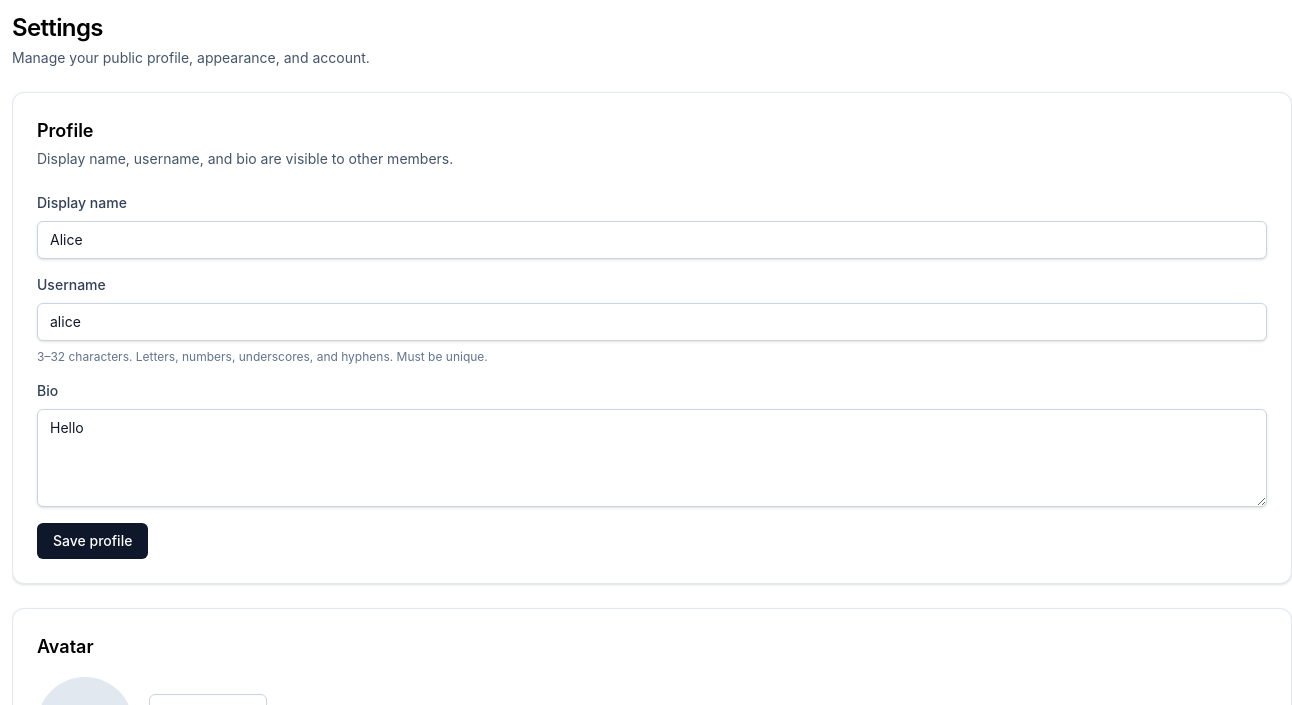
Test case: SettingsPage › saves display name, username, and bio
Replace the text in the field labelled "Display name" with "Alice Updated": (652, 240) [37,221,1267,259]
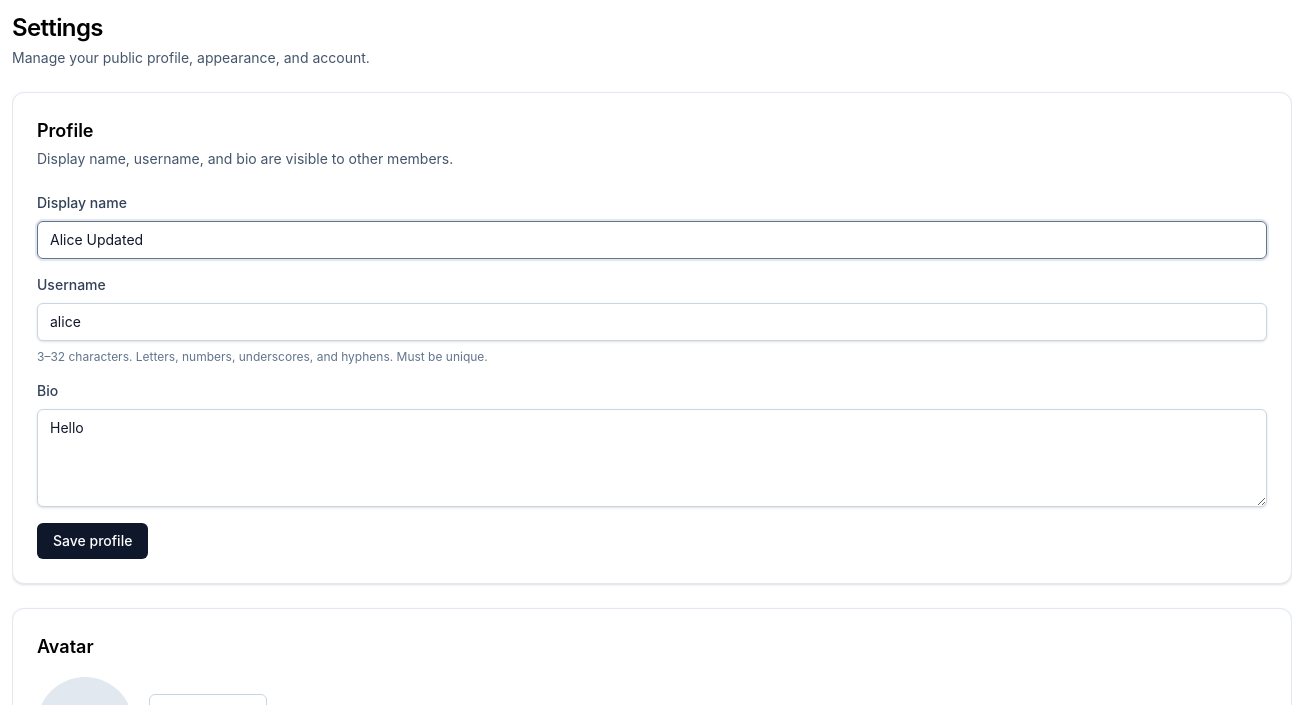
Replace the text in the field labelled "Username" with "alice_new": (652, 322) [37,303,1267,341]
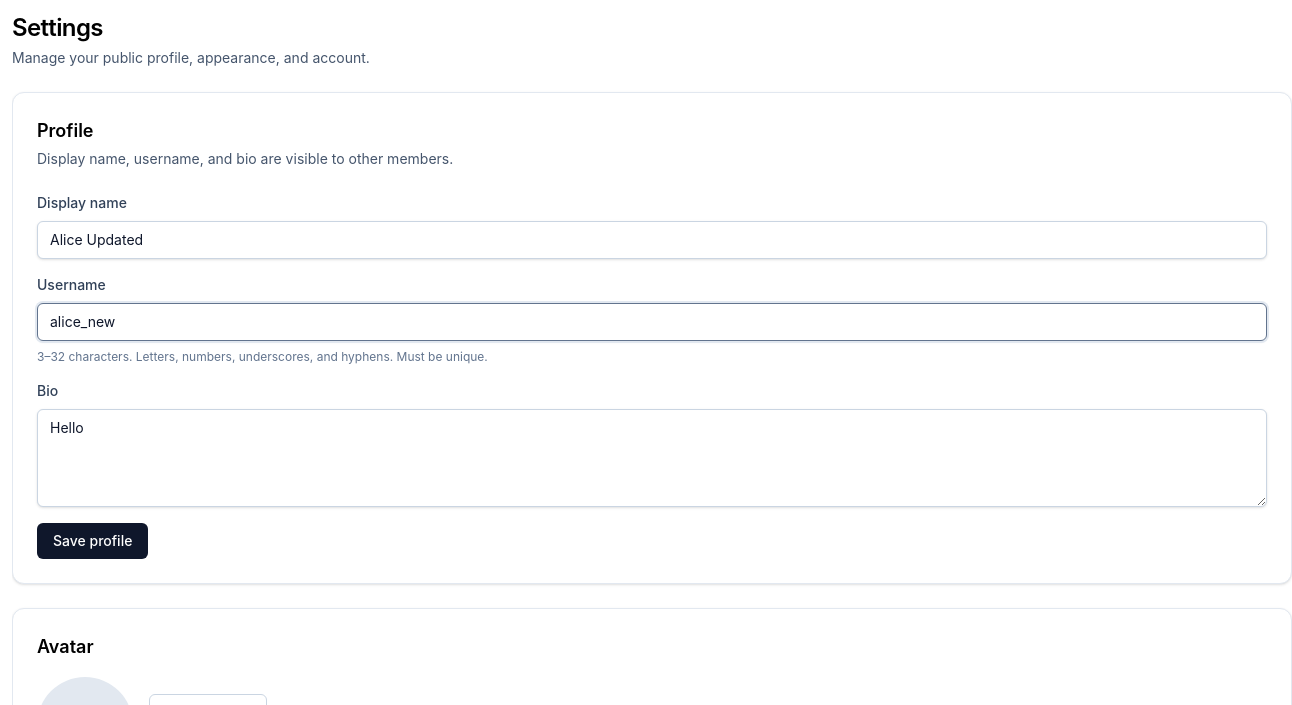
Replace the text in the text box labelled "Bio" with "Updated bio": (652, 458) [37,409,1267,507]
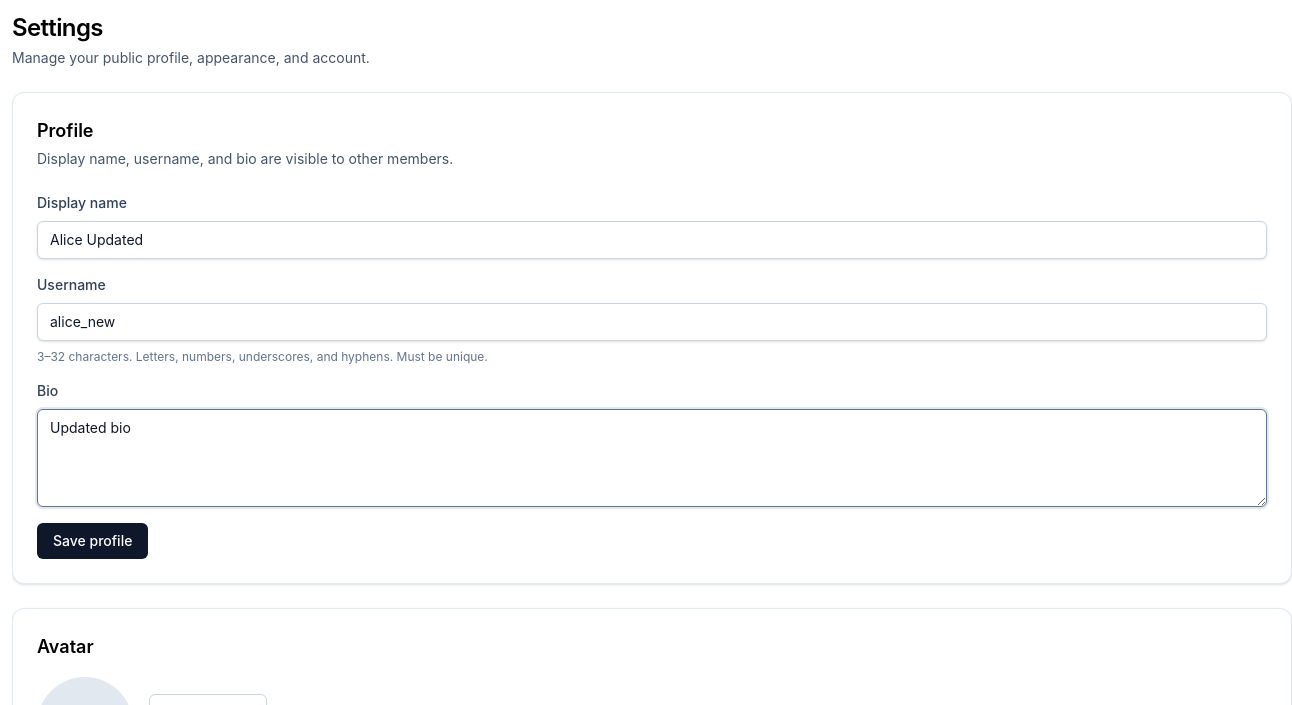
Click the button "Save profile": (93, 541) [37,523,148,559]
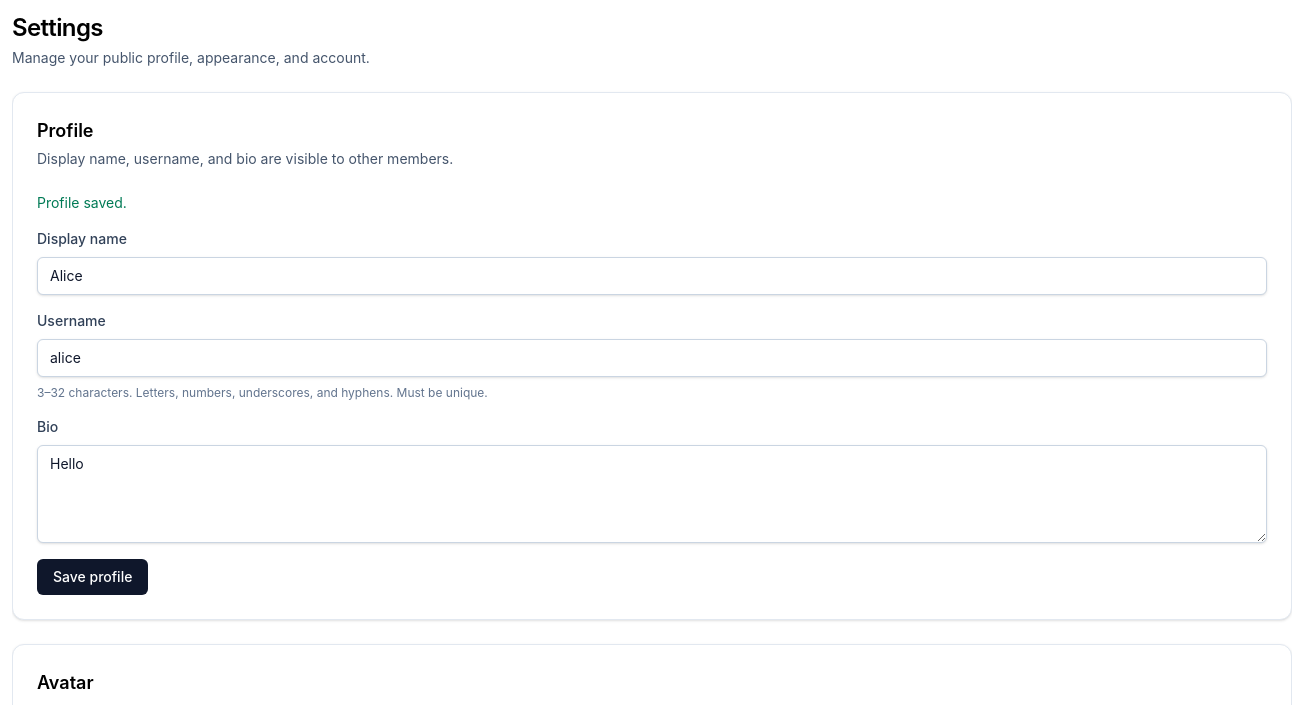
Expected: the message reads "Profile saved.", [37,194,127,211]
